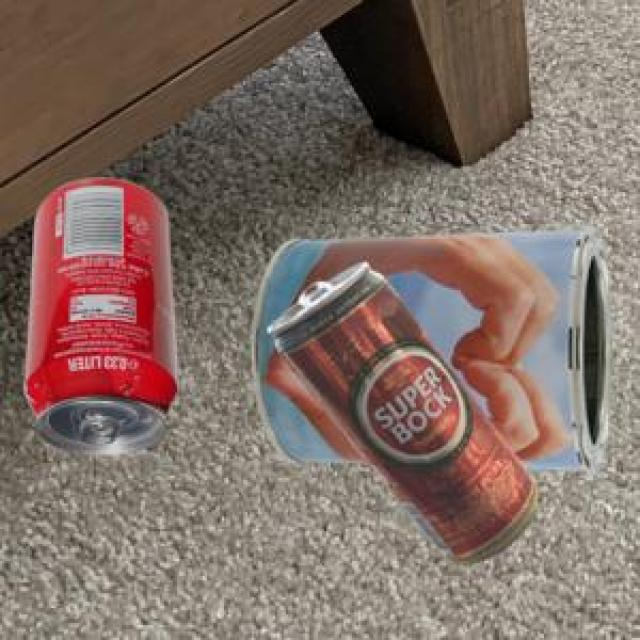logam: (249, 225, 609, 470), (266, 259, 534, 560), (22, 176, 174, 451)
